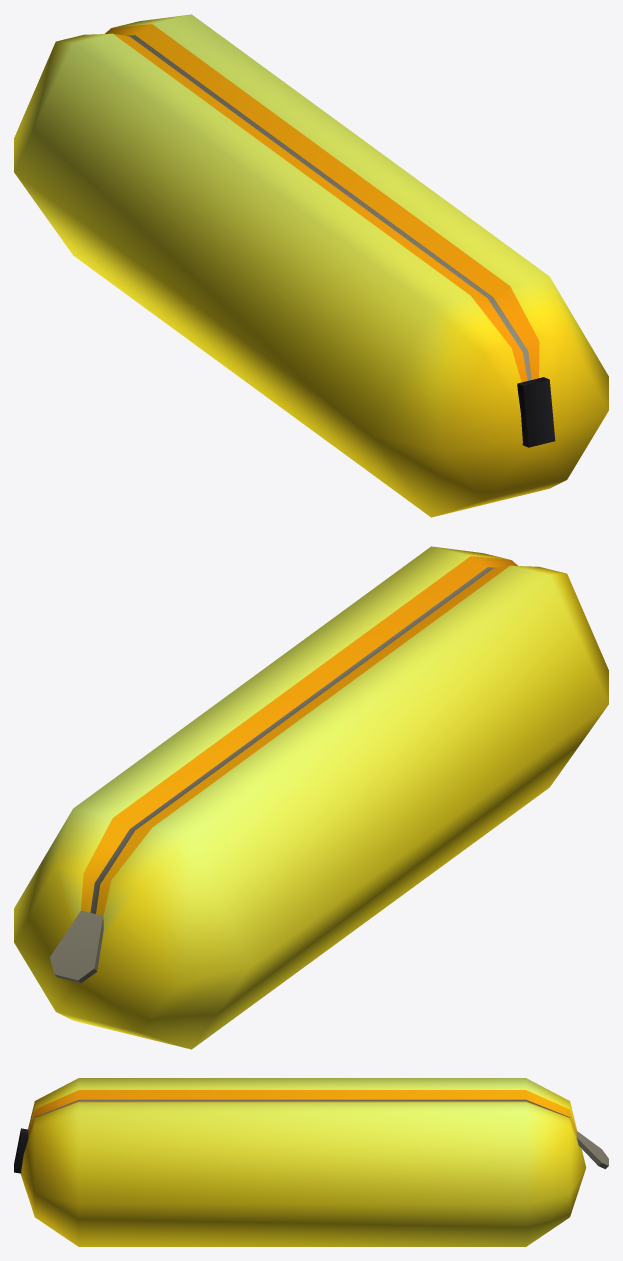
The model's file is CR_Pencilcase_001.FBX.
The picture shows the model from 3 angles, top to bottom: view 1: azimuth 30°, elevation 25°; view 2: azimuth 150°, elevation 25°; view 3: azimuth 270°, elevation 25°; orthographic projection. The views are drawn at different scales.
Visible parts, largest first — view 1: CR_Pencilcase_001; view 2: CR_Pencilcase_001; view 3: CR_Pencilcase_001.
Part boxes in pixels (left/top/right/bottom): CR_Pencilcase_001: left=14, top=14, right=608, bottom=517; CR_Pencilcase_001: left=14, top=546, right=608, bottom=1049; CR_Pencilcase_001: left=14, top=1078, right=608, bottom=1246.
Size of the model in its own units: 5.05 by 4.32 by 17.57.
Materials: 1 (1 with a texture image).
